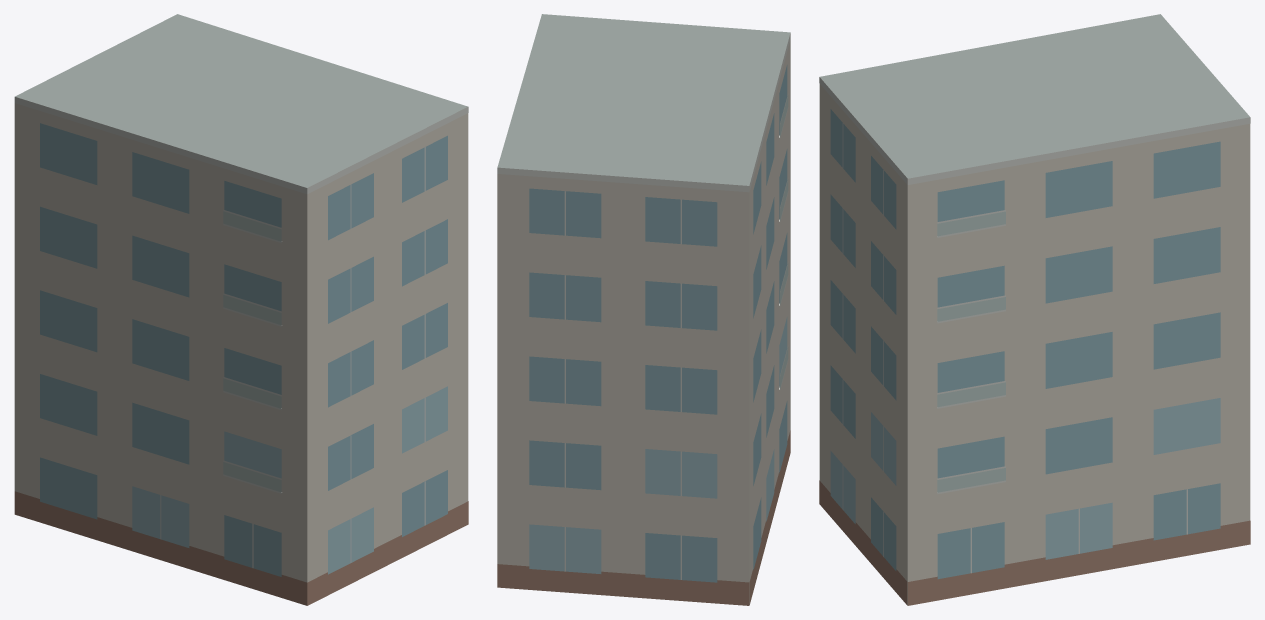
File: survey-upis-32826364.glb
3 renders of one model, left to right at view 1: azimuth 30°, elevation 25°; view 2: azimuth 150°, elevation 25°; view 3: azimuth 270°, elevation 25°, orthographic. The views are drawn at different scales.
Parts seen in each view (by area): view 1: survey-upis-32826364.tmp; view 2: survey-upis-32826364.tmp; view 3: survey-upis-32826364.tmp.
Boxes of the visible parts, x1,y1,x2,y2 form: survey-upis-32826364.tmp: [14, 14, 468, 605]; survey-upis-32826364.tmp: [497, 14, 790, 605]; survey-upis-32826364.tmp: [819, 14, 1250, 605].
Bounding box in the file's own units: 13.4 × 16.2 × 14.82.
